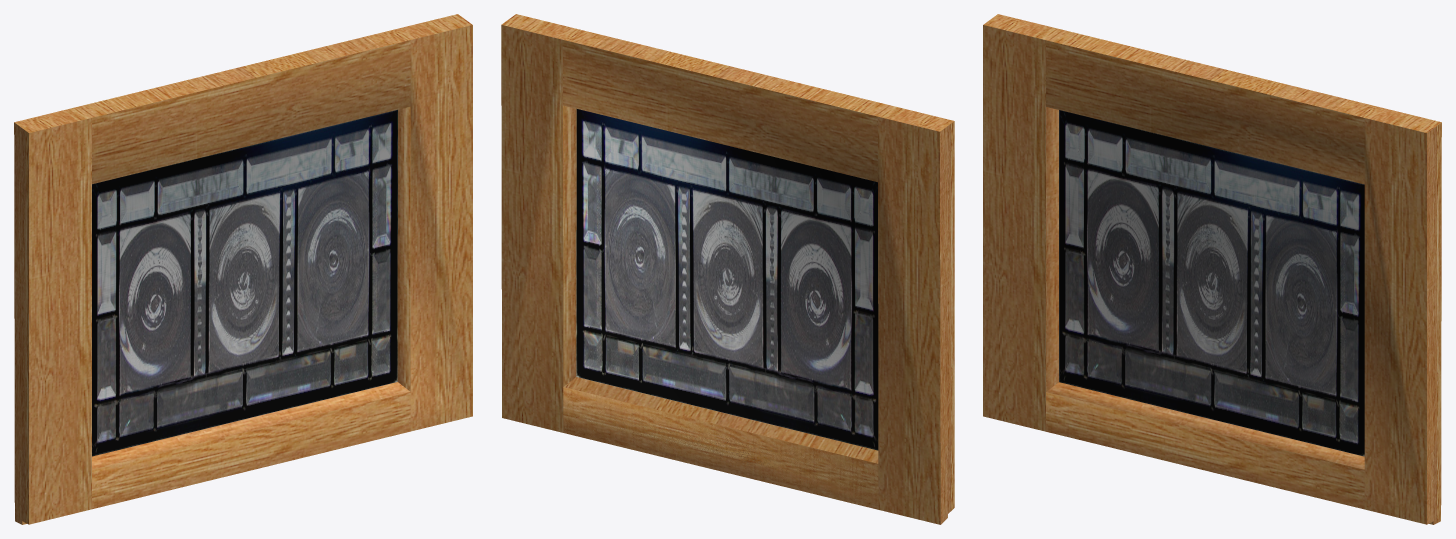
The model's file is StableDoorOakUPPER03.fbx.
3 views of the same model, side by side, from view 1: azimuth 30°, elevation 25°; view 2: azimuth 150°, elevation 25°; view 3: azimuth 330°, elevation 25° (orthographic).
Parts seen in each view (by area): view 1: default; view 2: default; view 3: default.
Part boxes in pixels (x1,y1,x2,y2): default: [14, 14, 472, 524]; default: [501, 14, 954, 524]; default: [983, 14, 1441, 524].
Bounding box in the file's own units: 113 × 96.82 × 6.56.
